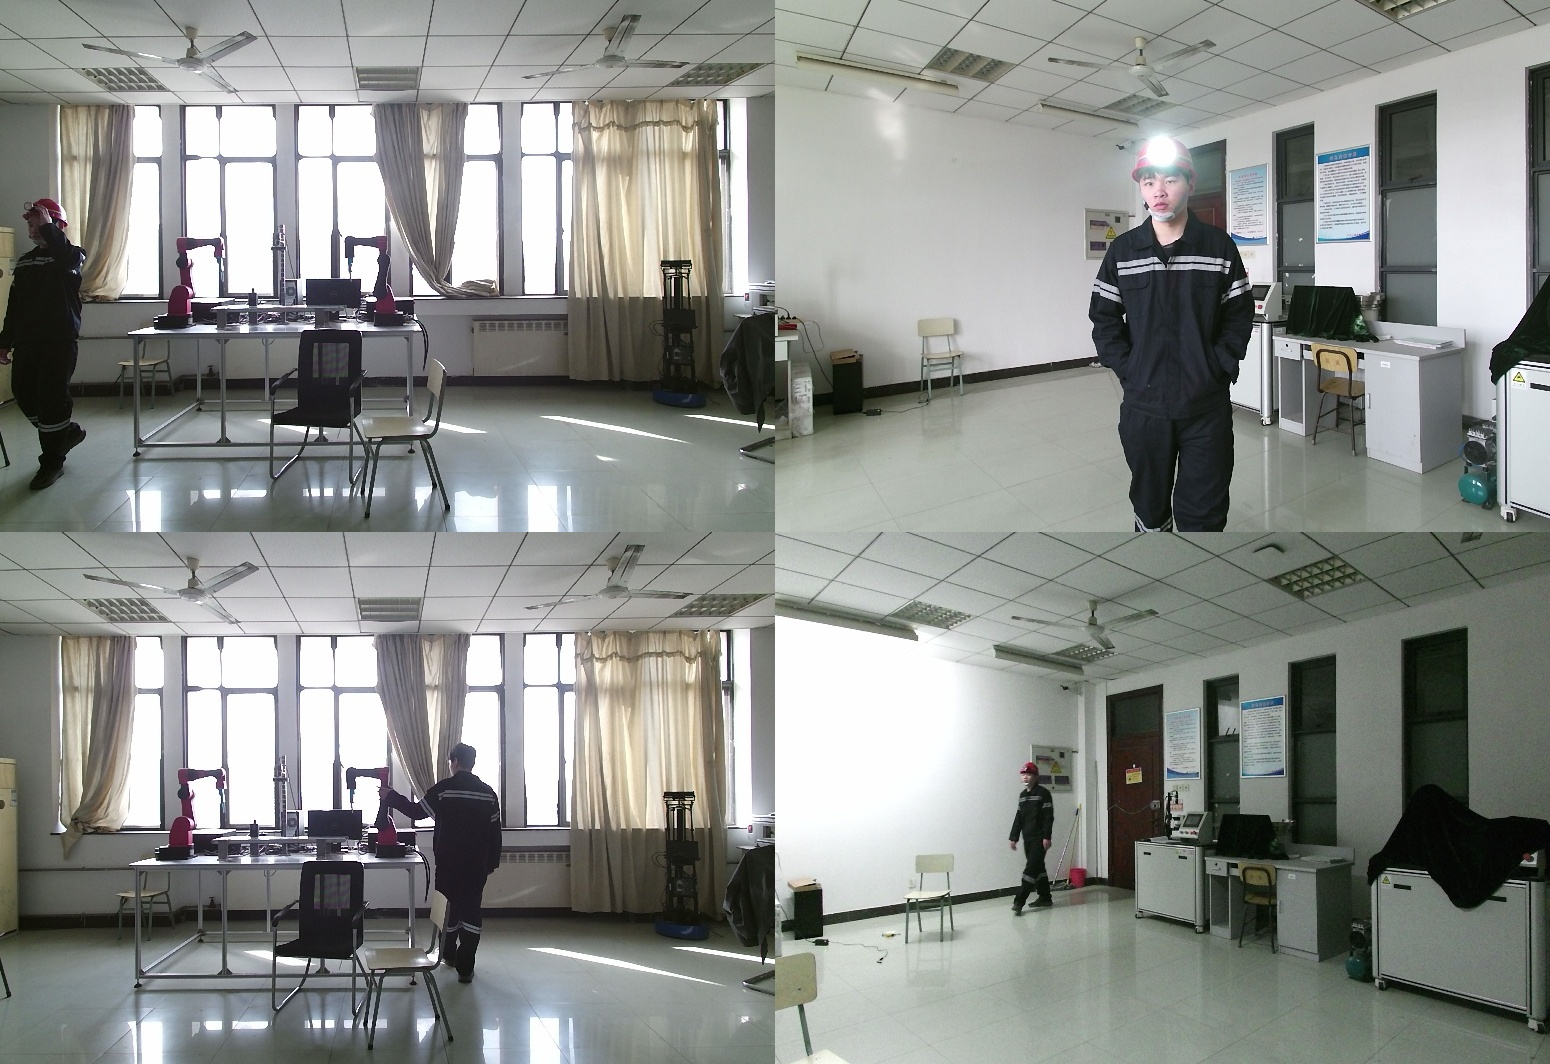person: (1089, 136, 1264, 532), (390, 747, 508, 982), (3, 200, 90, 488), (1005, 763, 1061, 915)
